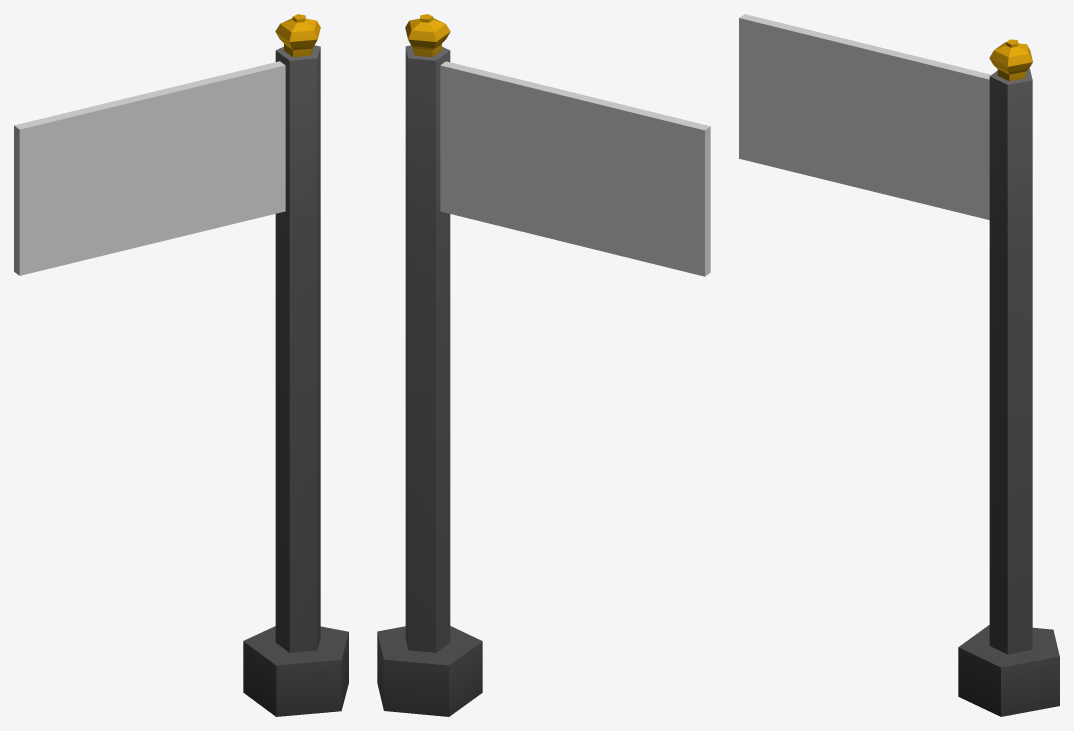
The model's file is BAndeiraFaculdades.fbx.
The picture shows the model from 3 angles, left to right: view 1: azimuth 30°, elevation 25°; view 2: azimuth 150°, elevation 25°; view 3: azimuth 330°, elevation 25°; orthographic projection. The views are drawn at different scales.
Parts seen in each view (by area): view 1: BandeiraFaculdades; view 2: BandeiraFaculdades; view 3: BandeiraFaculdades.
Boxes of the visible parts, bbox=[...] form: BandeiraFaculdades: bbox=[14, 14, 348, 716]; BandeiraFaculdades: bbox=[377, 14, 710, 716]; BandeiraFaculdades: bbox=[739, 14, 1059, 716].
Size of the model in its own units: 95.34 by 187 by 26.91.
